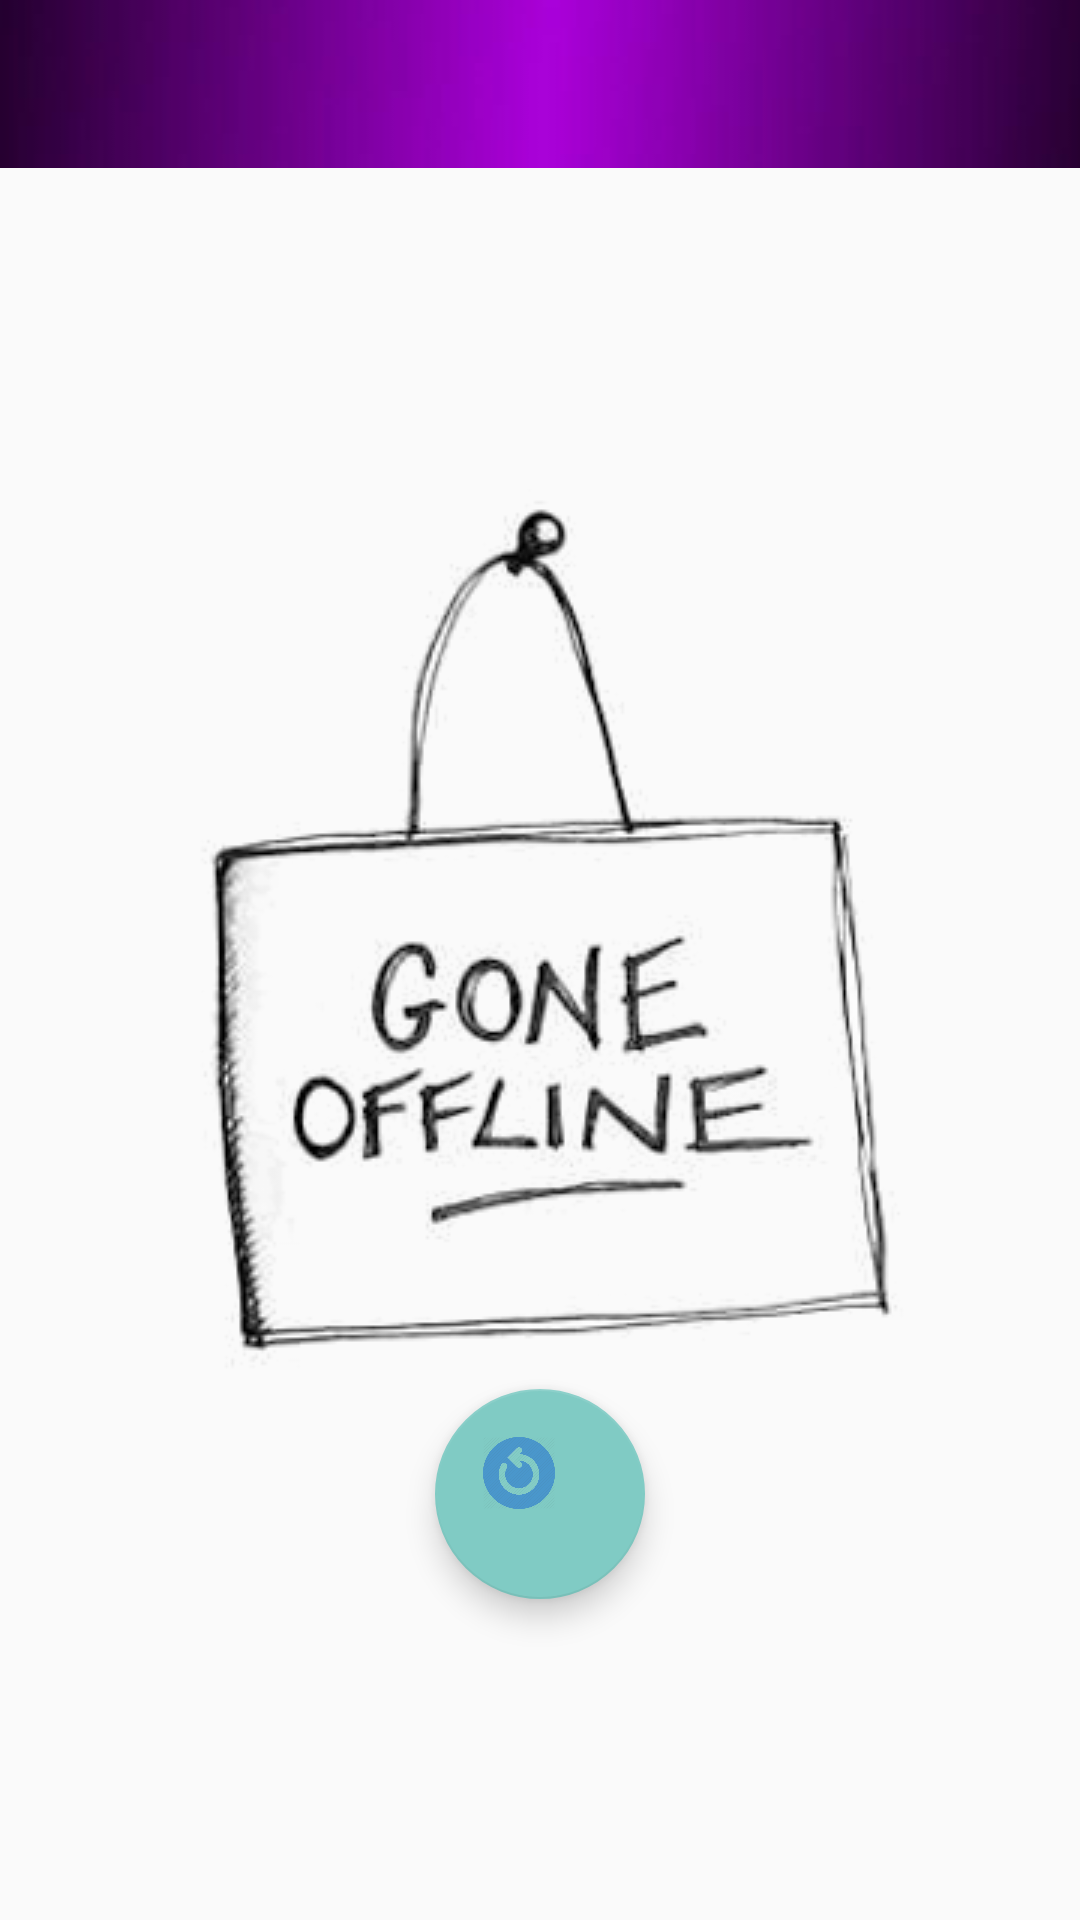

Screen size 1080×1920. Icon name, then its center in pixels as (x,y):
retry: (540,1494)
